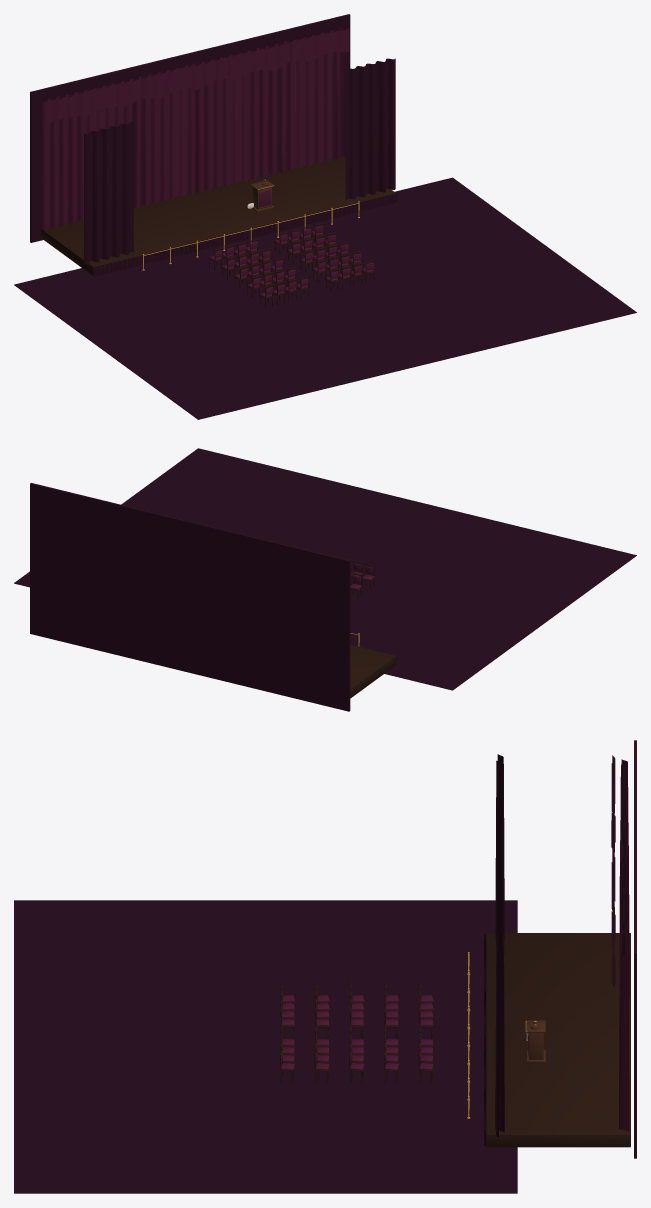
File: saleroom.glb
3 renders of one model, top to bottom at view 1: azimuth 30°, elevation 25°; view 2: azimuth 150°, elevation 25°; view 3: azimuth 270°, elevation 25°, orthographic. The views are drawn at different scales.
Visible parts, largest first — view 1: Floor, Curtain_R, Curtain_L, Stage, Curtain_SideR, Curtain_SideL, Valance, BackWall, StageSkirt, Lectern; view 2: BackWall, Floor, Stage; view 3: Floor, Stage, Curtain_R, Curtain_SideR, Curtain_SideL, BackWall, Curtain_L, Valance, Lectern.
Boxes of the visible parts, x1,y1,x2,y2 form: Floor: [14, 177, 636, 419]; Curtain_R: [192, 27, 347, 193]; Curtain_L: [42, 64, 194, 230]; Stage: [40, 156, 395, 276]; Curtain_SideR: [345, 58, 395, 199]; Curtain_SideL: [84, 121, 133, 264]; Valance: [47, 28, 349, 126]; BackWall: [30, 14, 350, 242]; StageSkirt: [93, 193, 396, 276]; Lectern: [250, 180, 274, 212]; BackWall: [30, 483, 350, 711]; Floor: [14, 448, 636, 690]; Stage: [350, 644, 396, 698]; Floor: [14, 900, 517, 1193]; Stage: [486, 933, 630, 1147]; Curtain_R: [619, 857, 629, 1131]; Curtain_SideR: [495, 926, 504, 1137]; Curtain_SideL: [495, 754, 504, 954]; BackWall: [634, 740, 636, 1158]; Curtain_L: [620, 759, 629, 1033]; Valance: [611, 755, 615, 988]; Lectern: [525, 1020, 545, 1063].
Size of the model in its own units: 22 by 7.2 by 19.8.
